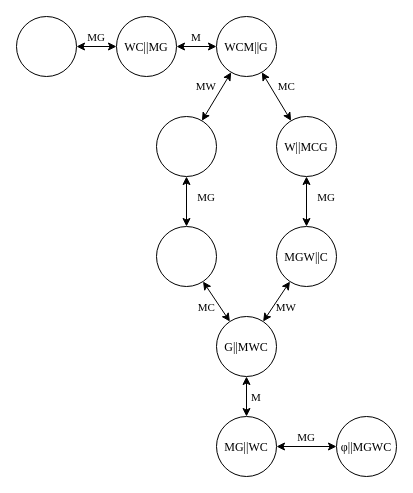
This 413x493 diagram has some shape labels left out. Here are the shapes that lost their labels. From the top down, the centre of each, then its label:
At pixel 46 46: "MWGC||φ".
At pixel 186 146: "C||MWG".
At pixel 186 256: "MGC||W".
